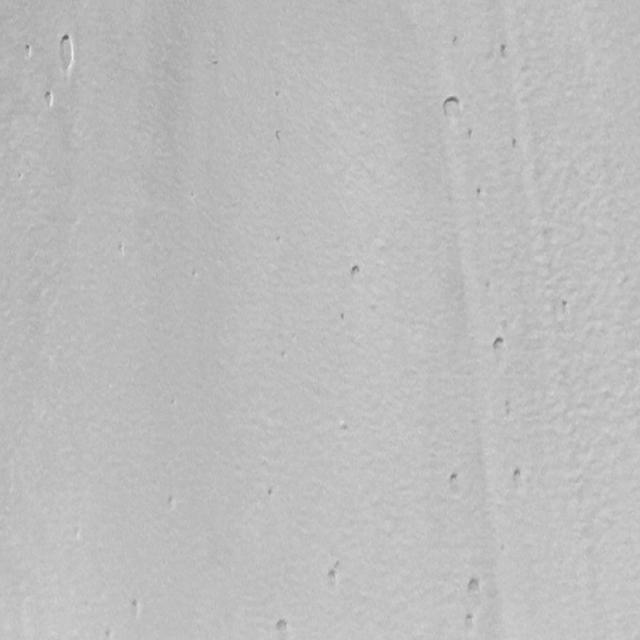pin holes: (54, 31, 76, 74), (438, 94, 465, 124), (507, 464, 530, 492), (445, 468, 467, 496), (488, 335, 510, 363), (458, 611, 481, 637), (464, 574, 485, 600), (125, 598, 146, 624), (323, 564, 343, 591), (348, 261, 368, 285), (273, 616, 294, 638), (494, 41, 514, 62), (43, 89, 57, 110), (449, 34, 465, 52), (338, 418, 355, 434), (474, 184, 488, 203), (561, 298, 574, 318), (116, 241, 130, 258), (22, 43, 34, 62), (264, 484, 279, 499), (338, 308, 352, 323), (509, 136, 523, 150), (271, 88, 285, 102), (466, 127, 478, 142), (210, 56, 223, 69), (102, 626, 115, 638), (168, 496, 177, 512), (276, 130, 282, 142), (171, 397, 176, 407), (506, 408, 511, 418), (276, 235, 282, 243), (192, 268, 197, 277), (281, 351, 286, 360), (505, 400, 510, 409), (486, 281, 491, 290), (501, 543, 505, 554), (190, 192, 196, 198), (18, 173, 22, 180)
